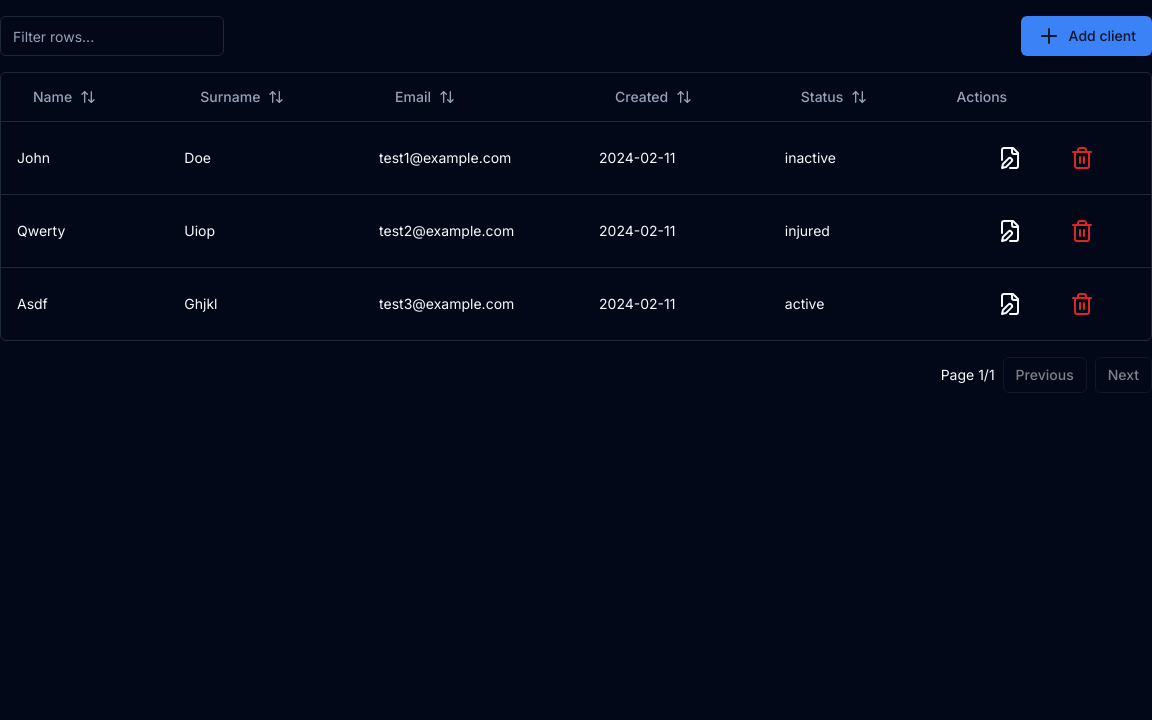
Scenario: Clients Table › opens delete confirmation dialog if delete client is clicked, closes dialog on cancel
Click the button named "delete client" in the row of "John".
click(1082, 158)  # box [1054,138,1110,178]
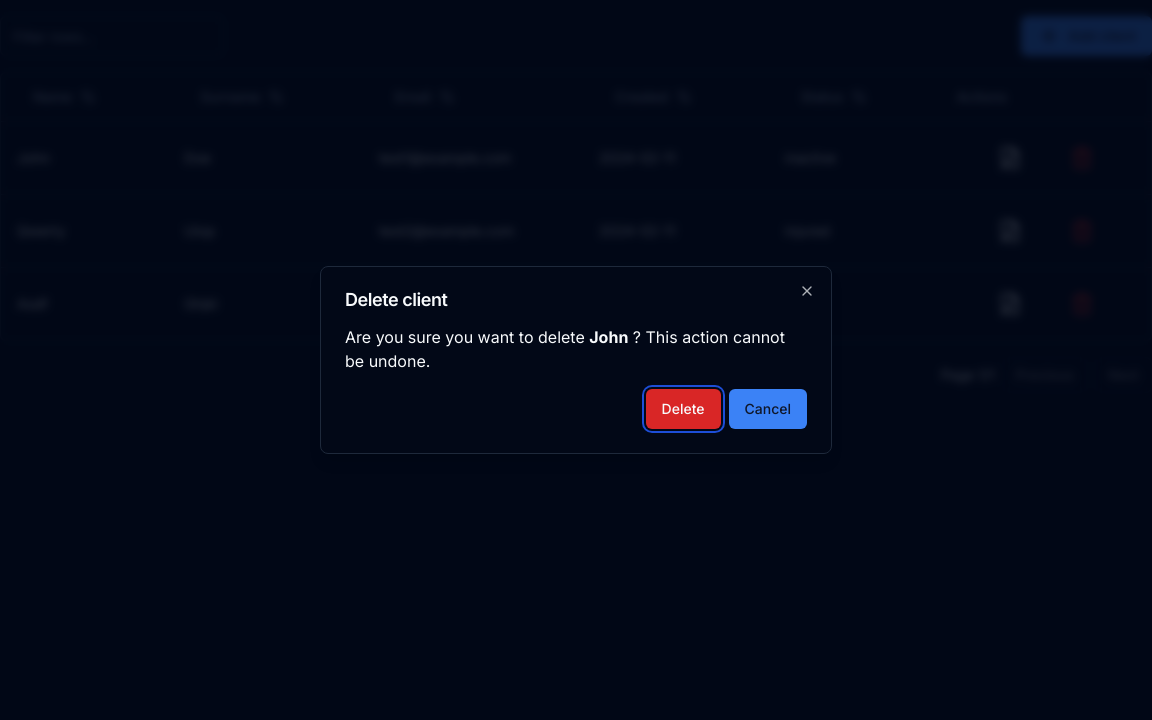
Result: the dialog is shown at [320,266,832,454]
Result: the heading "Delete client" is shown at [345,289,447,310]
Click the button "Cancel".
click(768, 409)  # box [728,389,807,429]
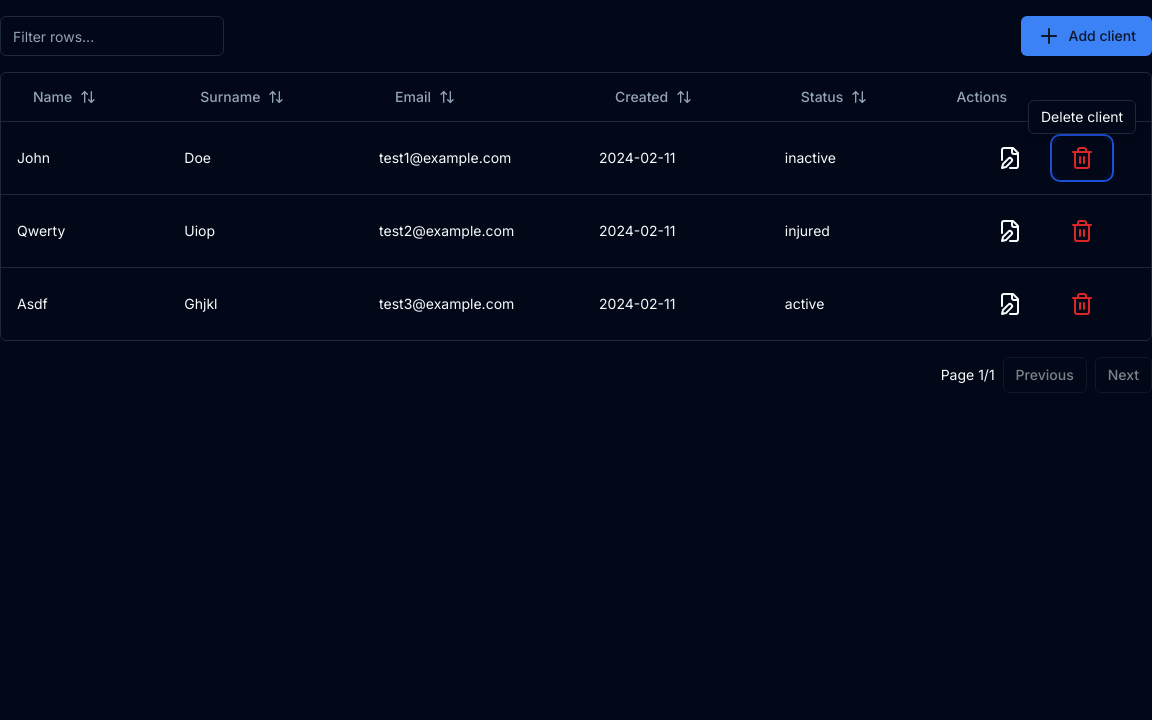
Result: the dialog is gone
